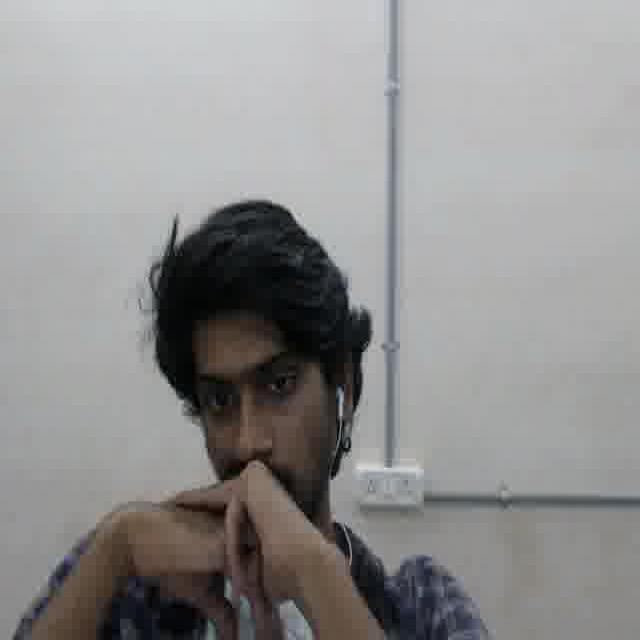Boredom: (195, 309, 328, 515)
